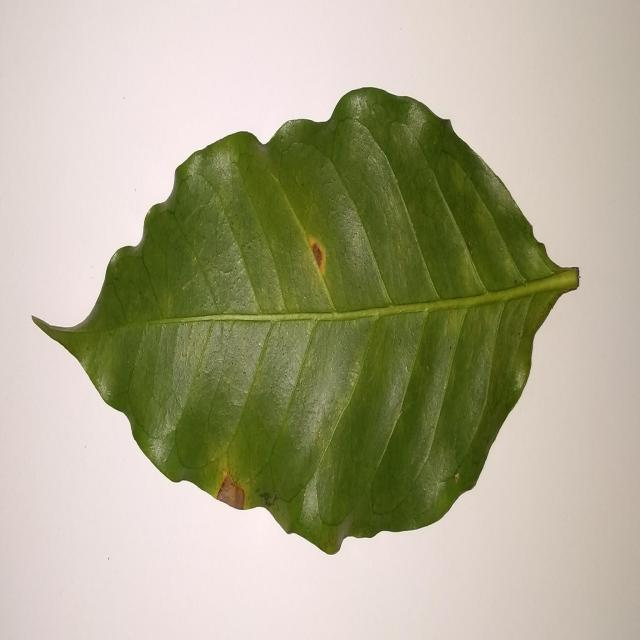Enfermedad-Mancha-de-hierro: (31, 88, 581, 558)
